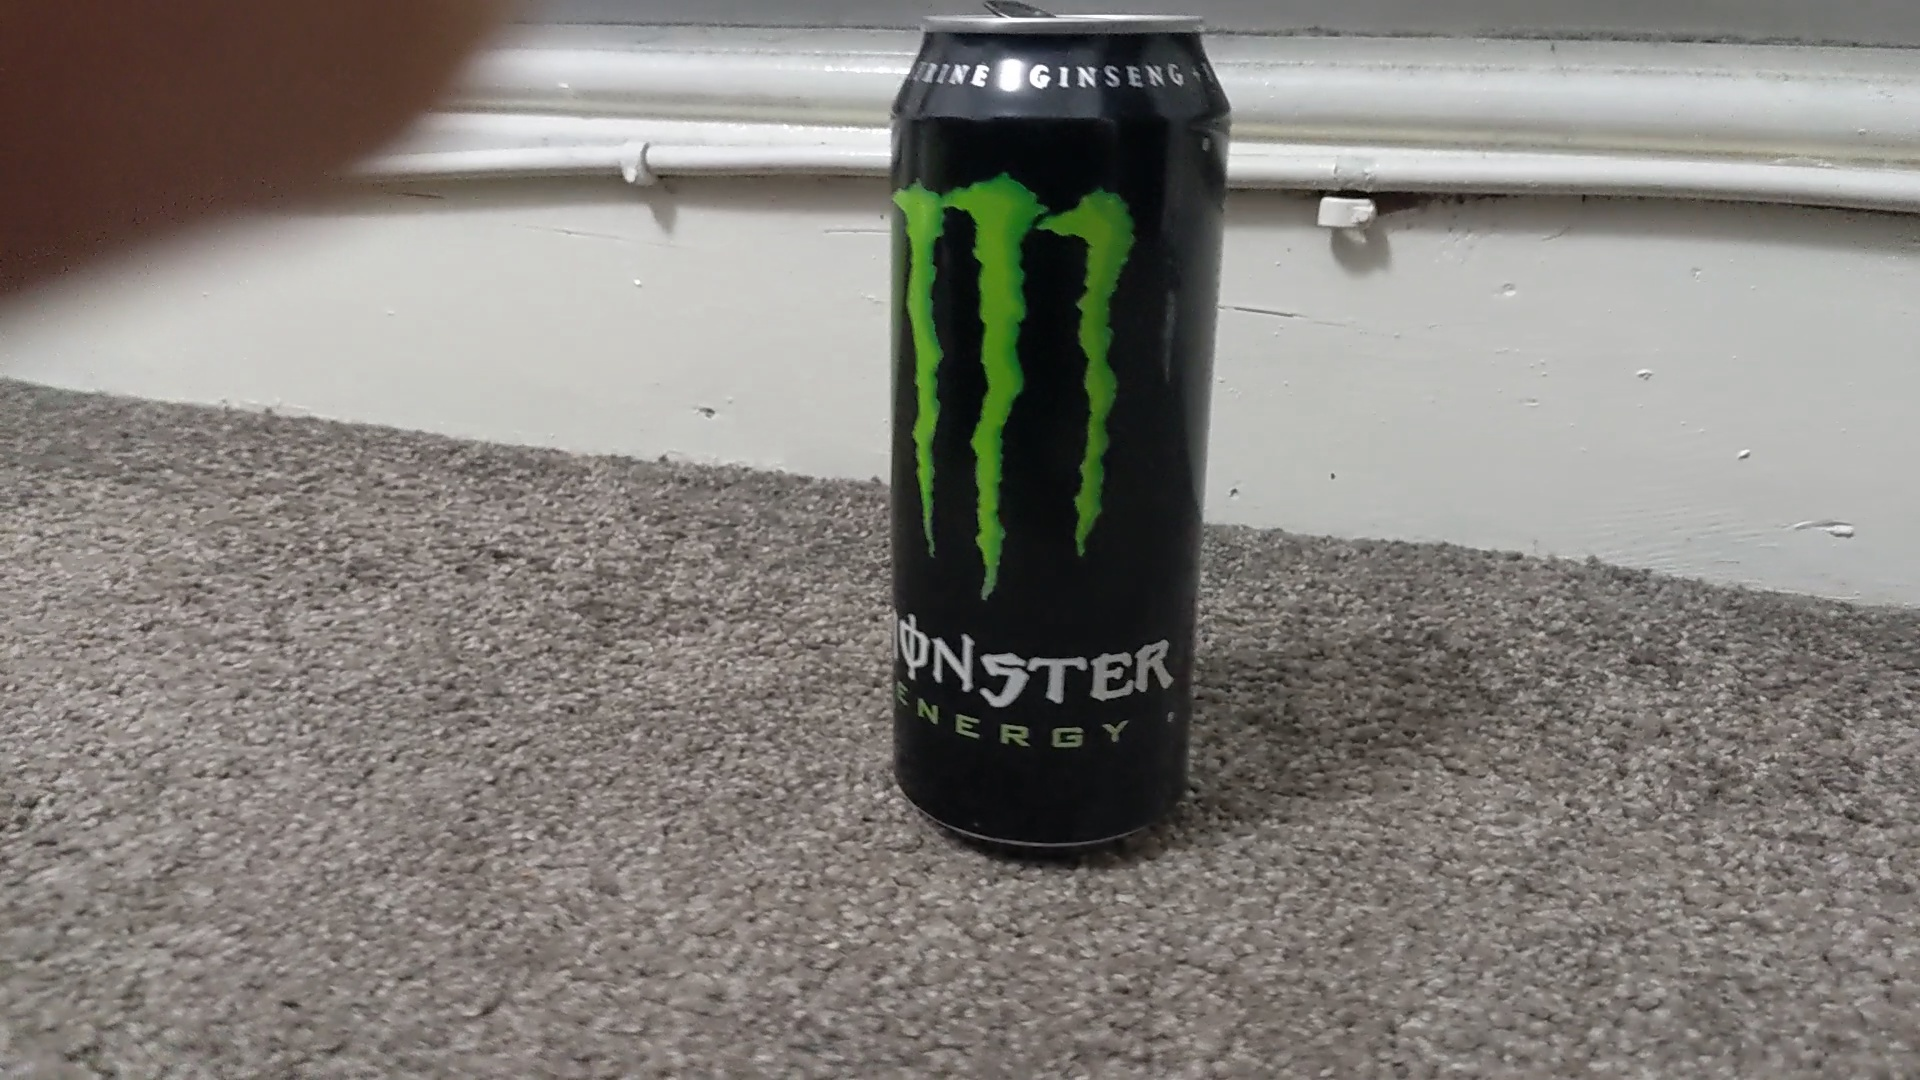monster-original: (891, 16, 1232, 851)
